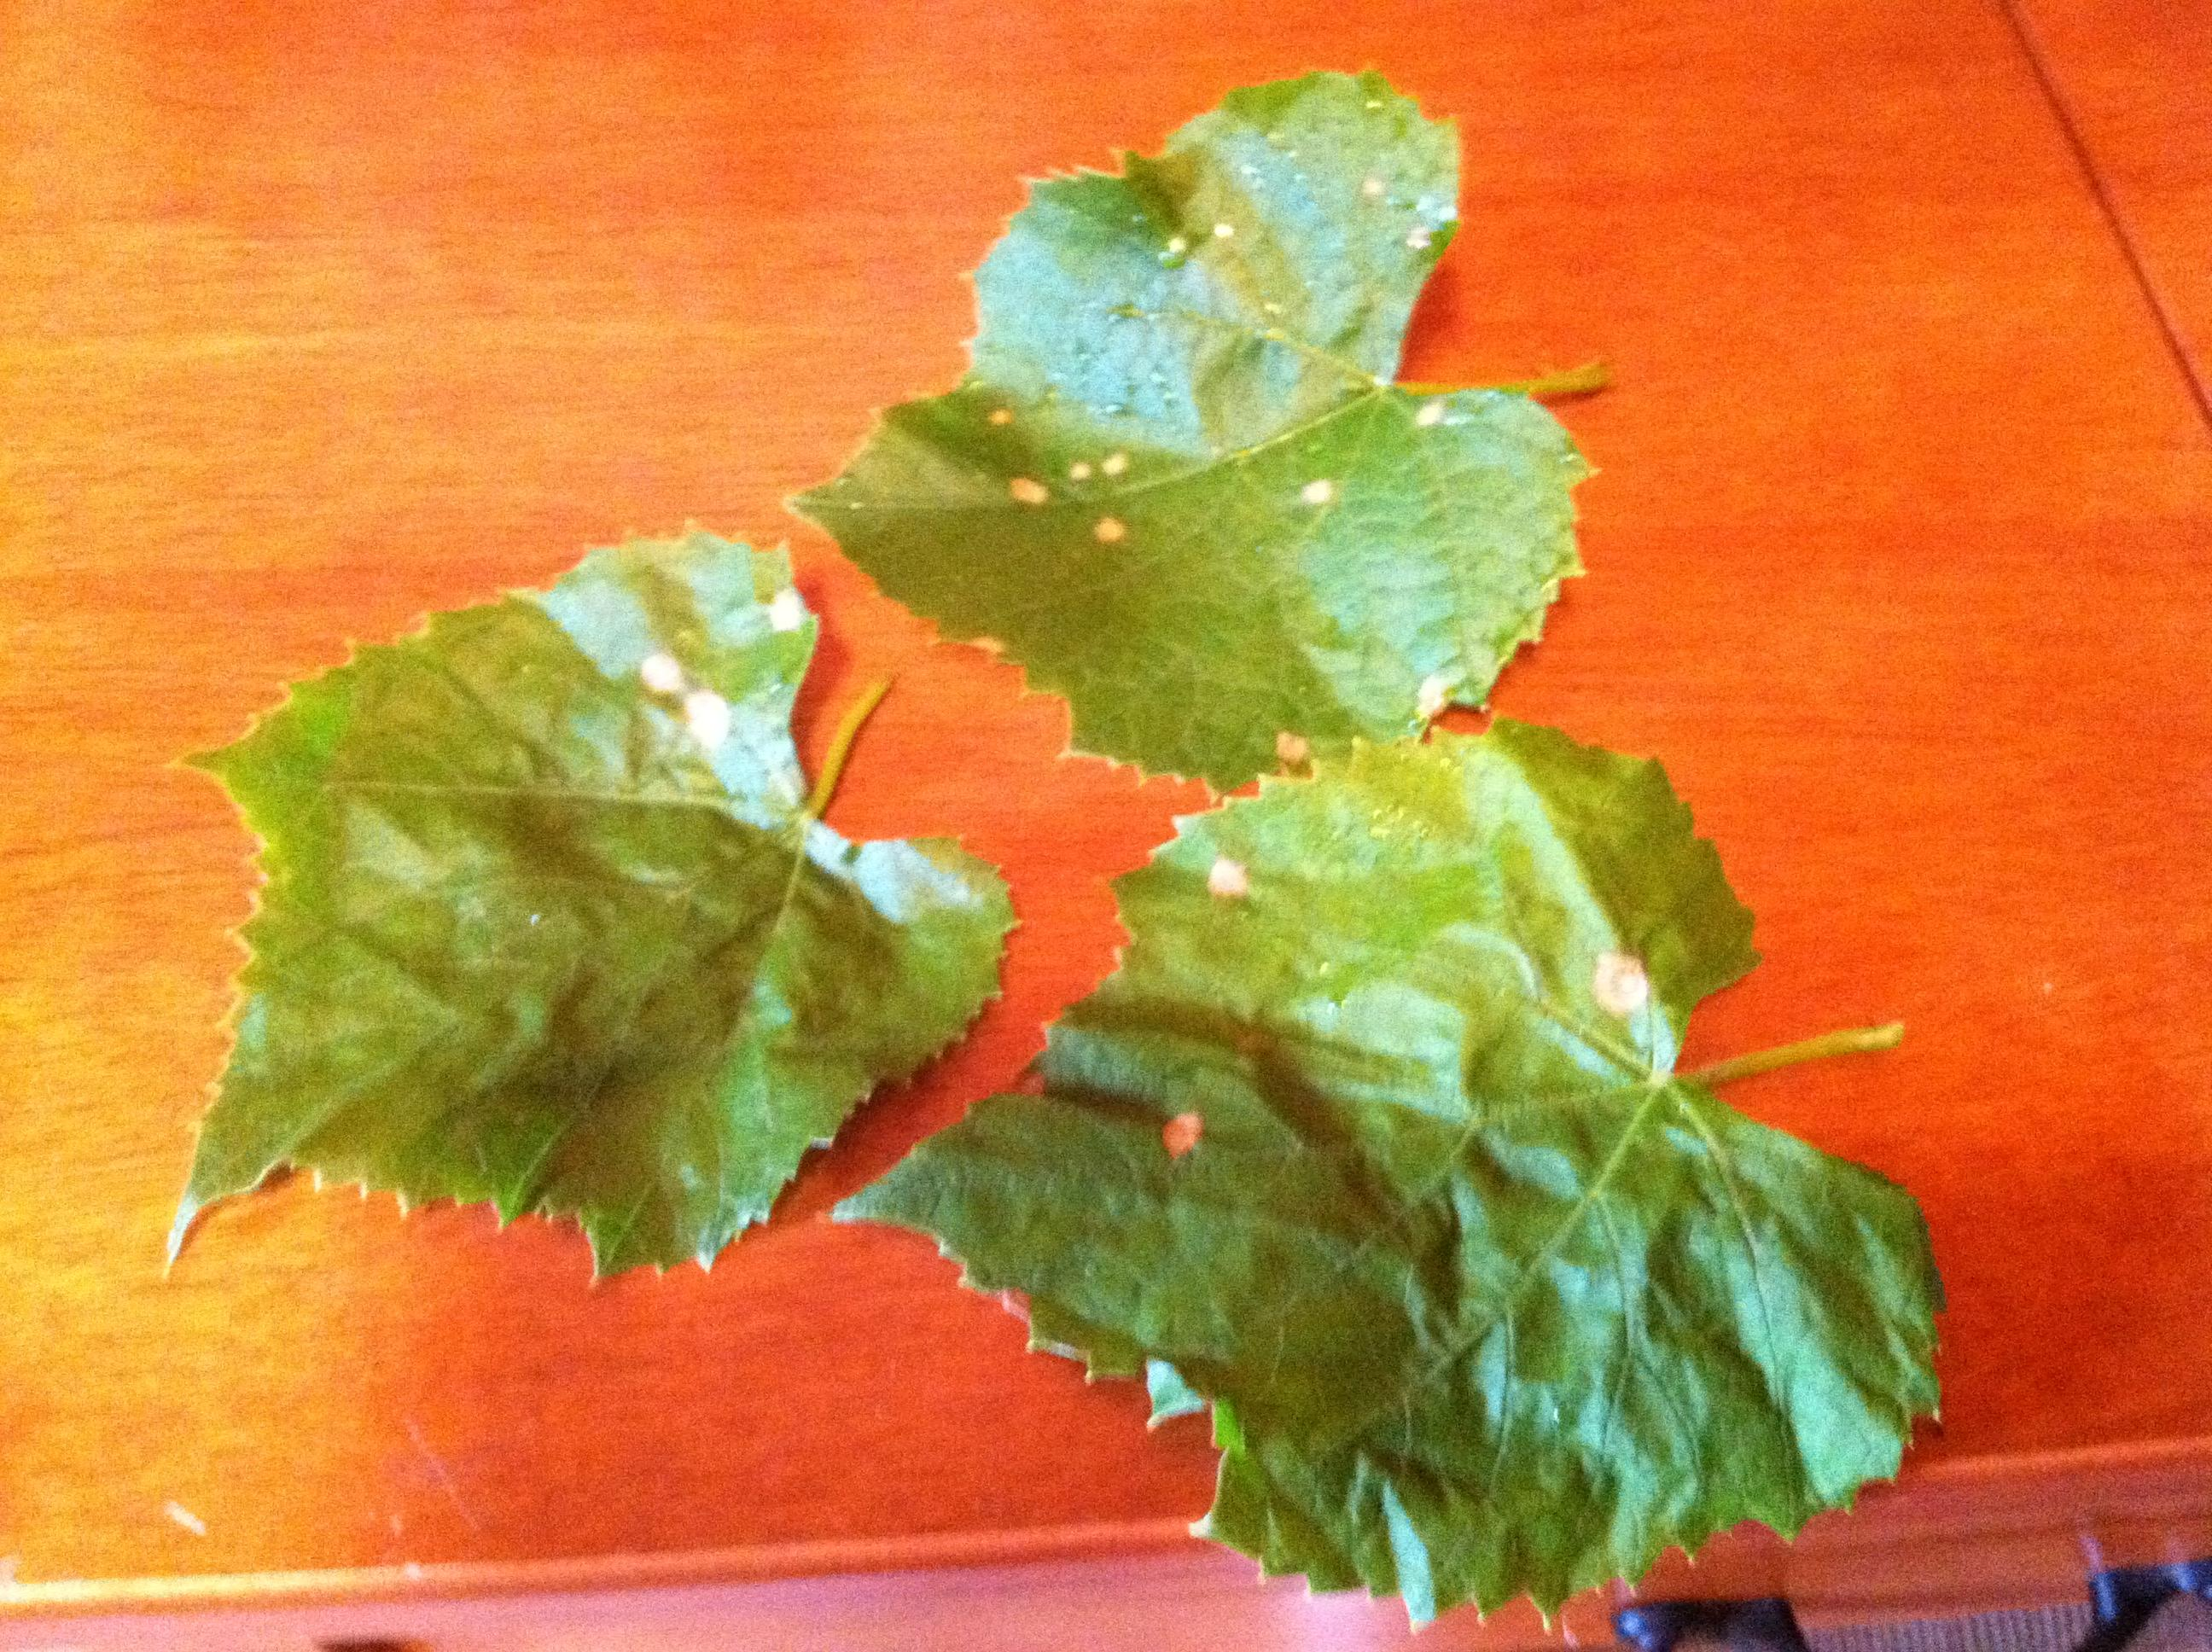grape leaf: (867, 694, 1938, 1621), (812, 35, 1603, 753)
